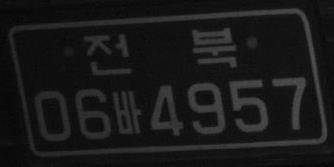0: (33, 90, 71, 142)
4: (151, 86, 182, 136)
5: (229, 80, 268, 133)
6: (74, 86, 112, 140)
7: (271, 77, 308, 129)
9: (187, 82, 225, 135)
바: (112, 90, 140, 134)
전북_D: (84, 26, 240, 74)
